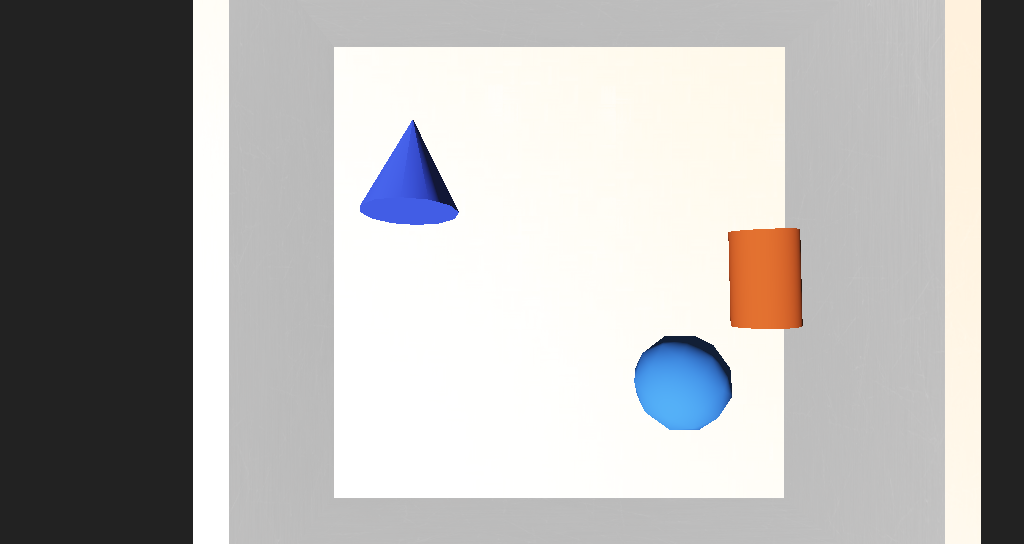cone: (613, 248, 667, 296)
cylinder: (371, 186, 438, 243)
sphere: (556, 298, 616, 341)
